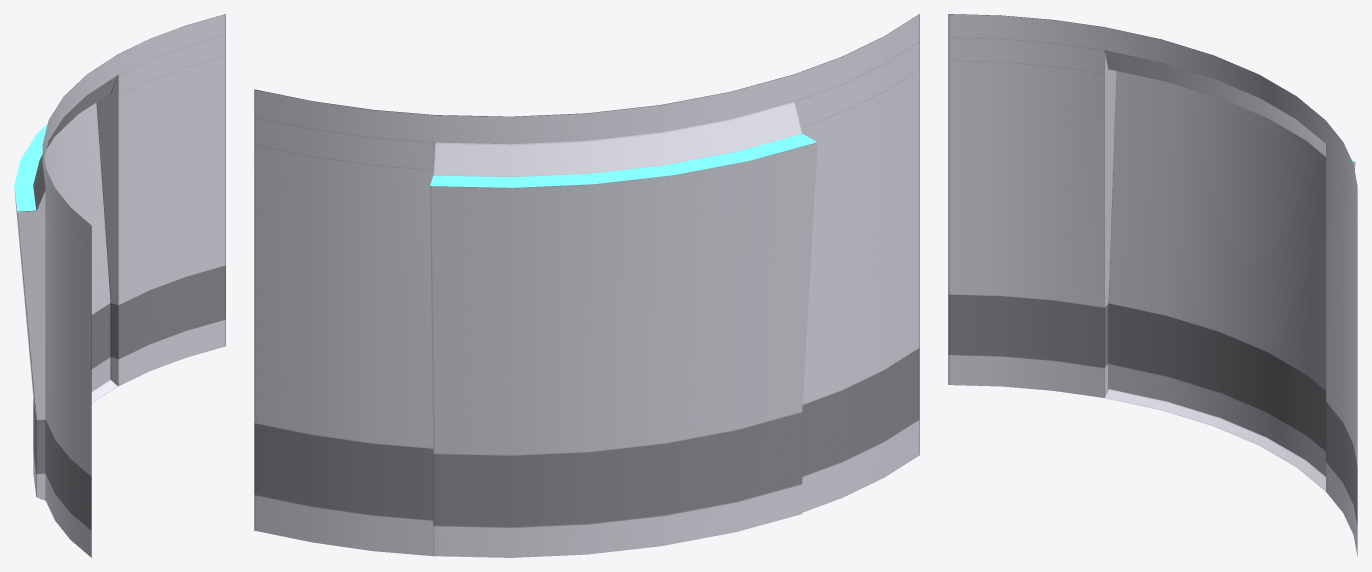
Rendered from Wall_Arc_90_02.FBX.
3 renders of one model, left to right at view 1: azimuth 30°, elevation 25°; view 2: azimuth 150°, elevation 25°; view 3: azimuth 270°, elevation 25°, orthographic. The views are drawn at different scales.
Visible parts, largest first — view 1: Wall_Arc_90_02; view 2: Wall_Arc_90_02; view 3: Wall_Arc_90_02.
Part boxes in pixels (box(x1,y1,x2,y2)): Wall_Arc_90_02: box(14, 14, 225, 557); Wall_Arc_90_02: box(254, 14, 919, 557); Wall_Arc_90_02: box(948, 14, 1357, 556).
Bounding box in the file's own units: 3 × 3 × 3.
2 materials, 1 textured.
